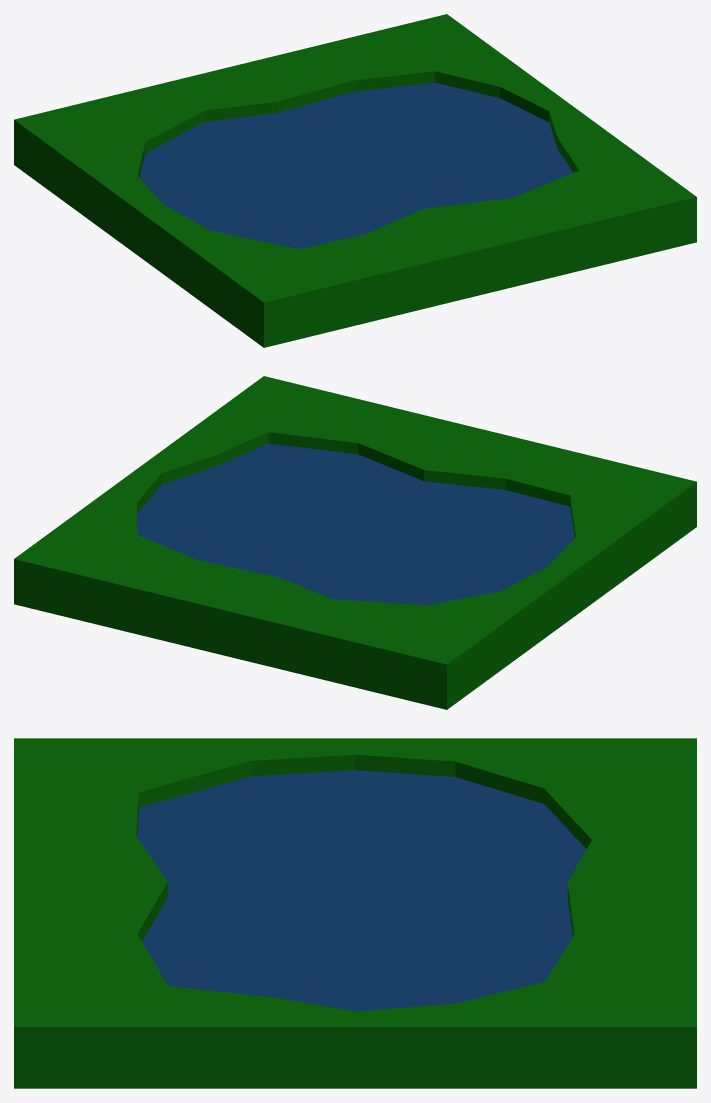
File: TileSetAddition(Pound).FBX
3 renders of one model, top to bottom at view 1: azimuth 30°, elevation 25°; view 2: azimuth 150°, elevation 25°; view 3: azimuth 270°, elevation 25°, orthographic. The views are drawn at different scales.
Visible parts, largest first — view 1: Box1047, Box1046, Box1044, Box1045; view 2: Box1044, Box1045, Box1047, Box1046; view 3: Box1046, Box1045, Box1044, Box1047.
Boxes of the visible parts, <box> form: Box1047: <box>139,169,480,347</box>; Box1046: <box>356,105,696,294</box>; Box1044: <box>14,67,354,255</box>; Box1045: <box>231,14,571,169</box>; Box1044: <box>230,531,571,709</box>; Box1045: <box>14,467,354,656</box>; Box1047: <box>356,429,696,617</box>; Box1046: <box>139,376,479,531</box>; Box1046: <box>14,882,355,1088</box>; Box1045: <box>355,882,696,1088</box>; Box1044: <box>355,738,696,897</box>; Box1047: <box>14,738,355,897</box>.
Size of the model in its own units: 2000 by 200 by 2000.
